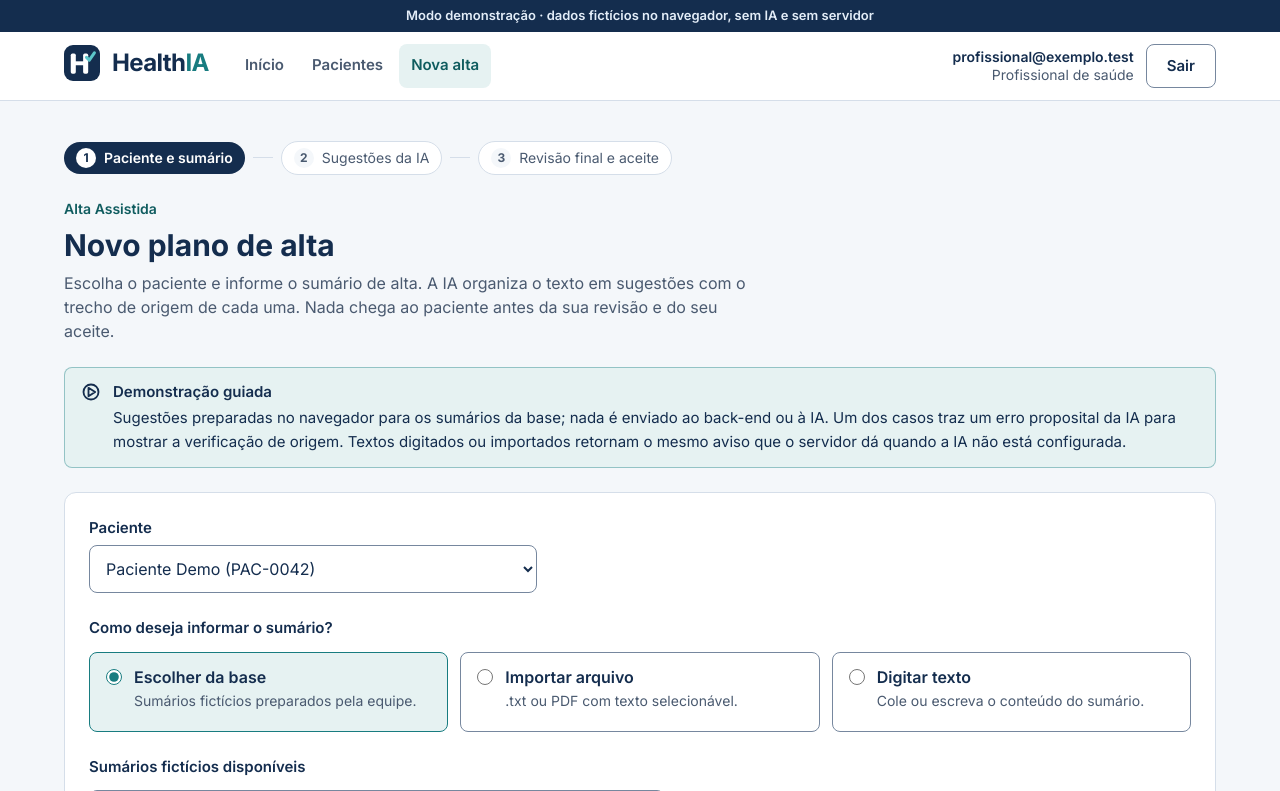
Test: Entrada do Alta Assistida › demonstração recusa texto livre como o servidor sem IA configurada
Click the radio button labelled "Digitar texto Cole ou escreva o conteúdo do sumário.".
click(857, 677)  # box x1=849 y1=669 x2=865 y2=685
(page scrolled)
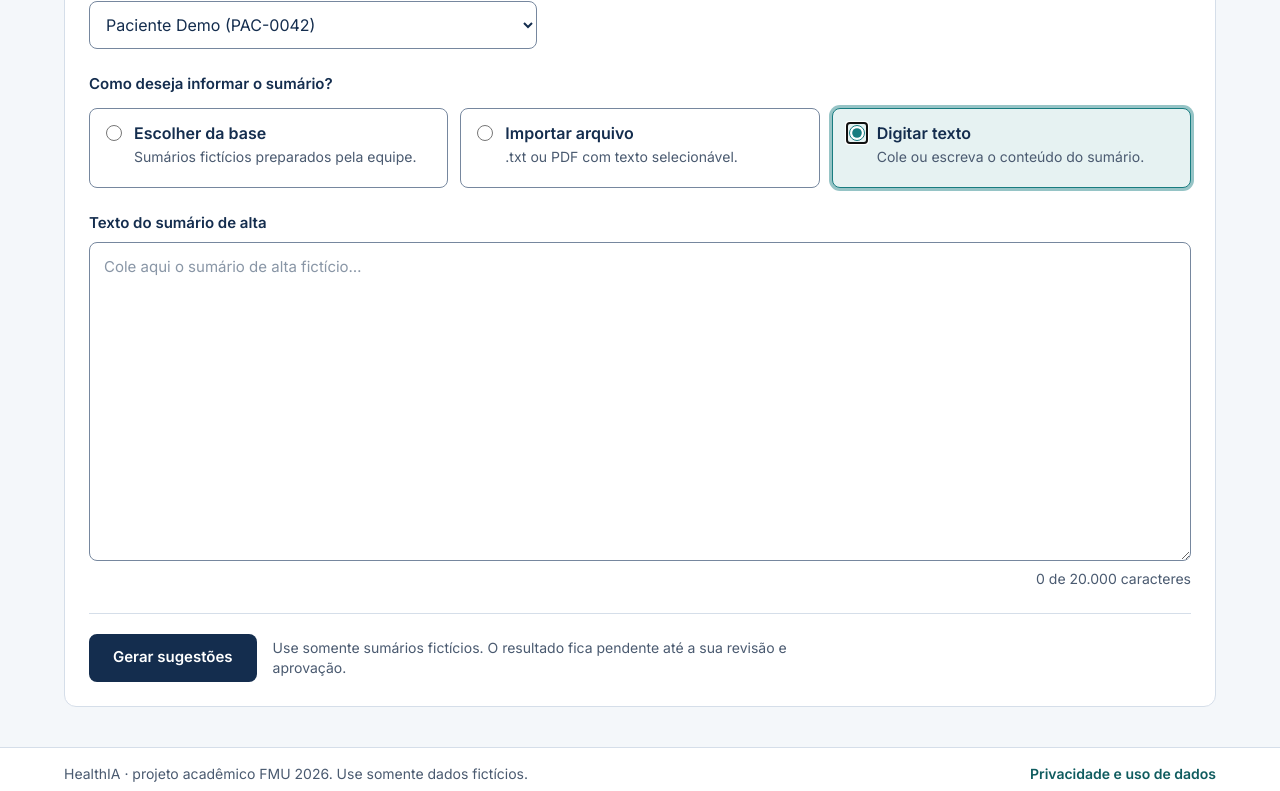
Type "Texto fictício qualquer." into the text box labelled "Texto do sumário de alta".
click(640, 401); type("Texto fictício qualquer.")  # box x1=89 y1=242 x2=1191 y2=561
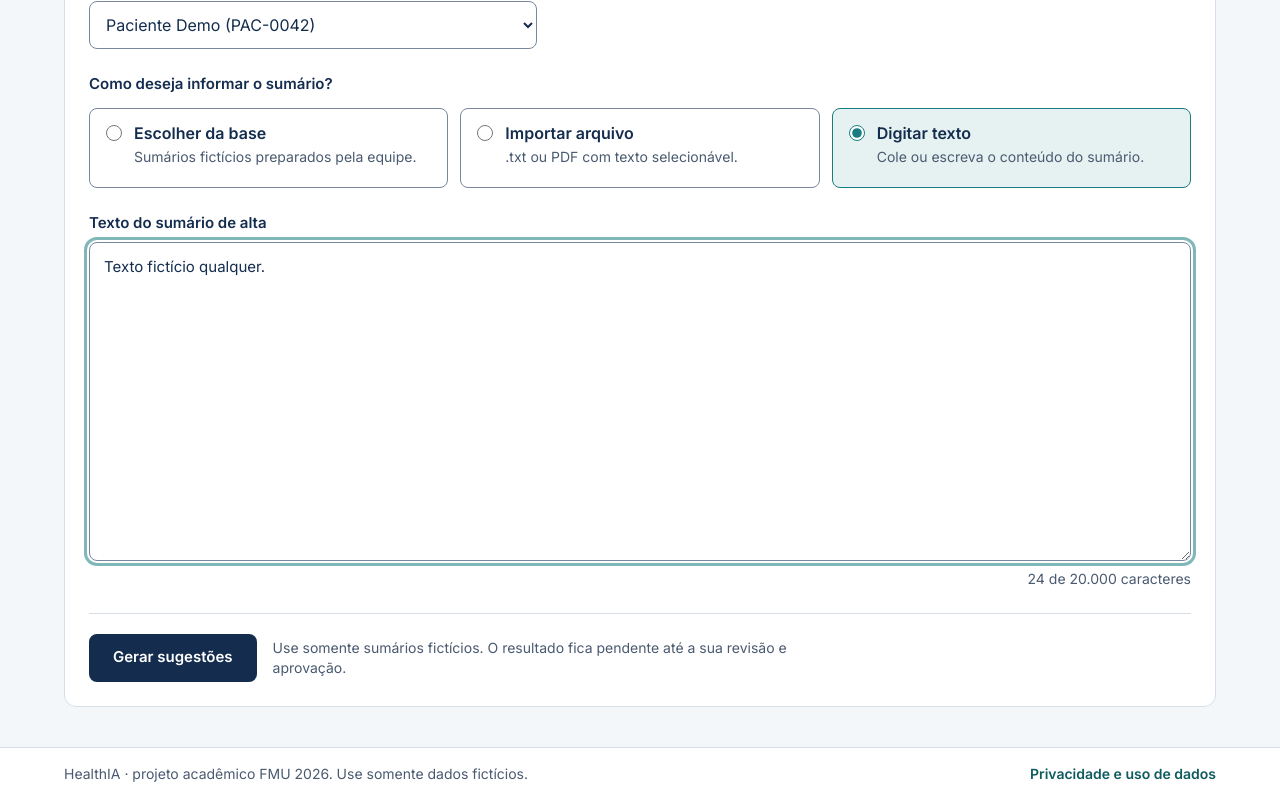
Click the button "Gerar sugestões".
click(173, 658)  # box x1=89 y1=634 x2=257 y2=682
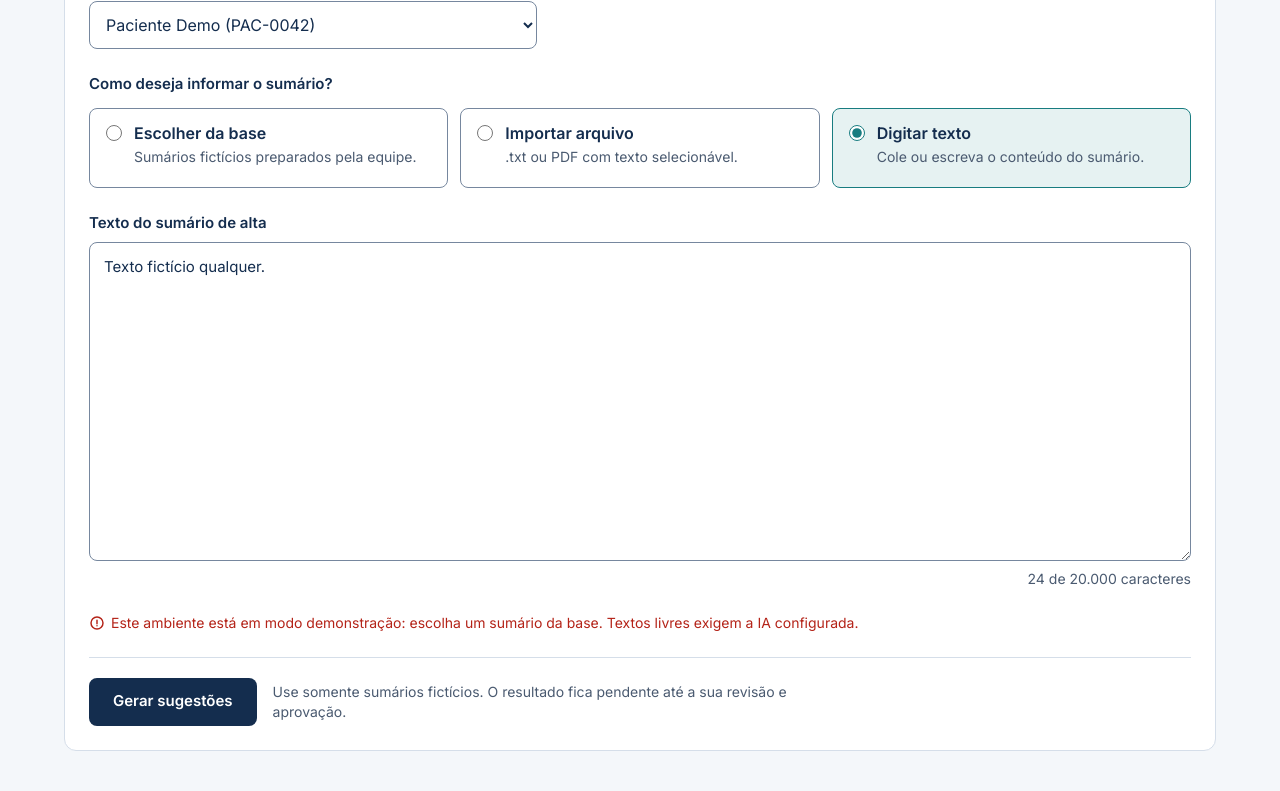
Expected: the message shows "escolha um sumário da base", x1=111 y1=614 x2=858 y2=631
